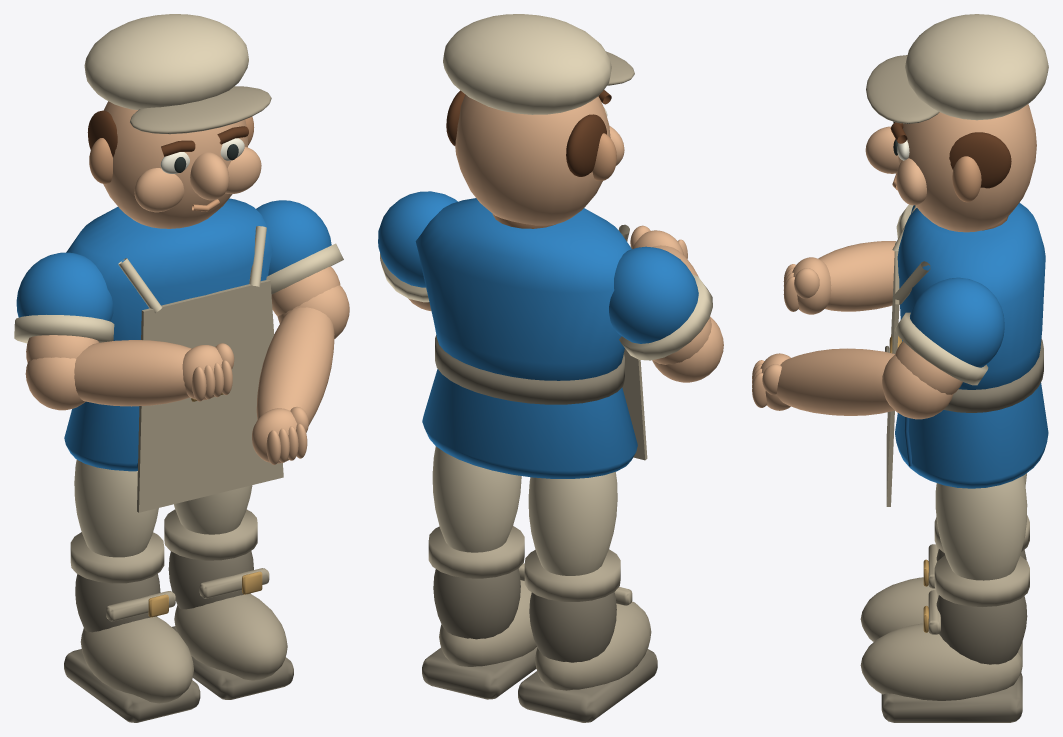
File: steenhouwer_slaan.glb
The picture shows the model from 3 angles, left to right: view 1: azimuth 30°, elevation 25°; view 2: azimuth 150°, elevation 25°; view 3: azimuth 270°, elevation 25°; orthographic projection. The views are drawn at different scales.
Visible parts, largest first — view 1: Felt_work_apron, Tunic_torso.001, Work_cap, Boot_toe.002, Boot_toe.003, Head.001, Right_Forearm.001, Left_Forearm.001, Trouser_leg.002, Right_Sleeve.001, Tunic_skirt.001, Cap_small_brim (+25 smaller); view 2: Tunic_torso.001, Tunic_skirt.001, Work_cap, Head.001, Trouser_leg.002, Trouser_leg.003, Right_Sleeve.001, Boot_shaft.003, Boot_shaft.002, Belt.001, Boot_toe.002, Boot_sole.002 (+15 smaller); view 3: Tunic_torso.001, Work_cap, Tunic_skirt.001, Head.001, Boot_toe.003, Trouser_leg.003, Left_Forearm.001, Left_Sleeve.001, Boot_shaft.003, Right_Forearm.001, Boot_sole.003, Boot_cuff.003 (+16 smaller).
Part boxes in pixels (box(x1,y1,x2,y2)): Felt_work_apron: box(137, 279, 283, 512); Tunic_torso.001: box(66, 198, 273, 340); Work_cap: box(84, 14, 248, 109); Boot_toe.002: box(80, 616, 193, 703); Boot_toe.003: box(174, 594, 287, 680); Head.001: box(103, 101, 248, 228); Right_Forearm.001: box(74, 340, 191, 406); Left_Forearm.001: box(256, 307, 334, 425); Trouser_leg.002: box(74, 459, 158, 557); Right_Sleeve.001: box(16, 252, 113, 321); Tunic_skirt.001: box(64, 401, 139, 471); Cap_small_brim: box(130, 86, 271, 134); Tunic_torso.001: box(415, 198, 631, 380); Tunic_skirt.001: box(422, 369, 637, 478); Work_cap: box(443, 14, 611, 114); Head.001: box(455, 94, 610, 225); Trouser_leg.002: box(528, 472, 617, 575); Trouser_leg.003: box(432, 446, 521, 552); Right_Sleeve.001: box(609, 246, 698, 343); Boot_shaft.003: box(433, 568, 520, 639); Boot_shaft.002: box(529, 592, 616, 662); Belt.001: box(435, 335, 624, 404); Boot_toe.002: box(535, 601, 651, 690); Boot_sole.002: box(518, 649, 657, 722); Tunic_torso.001: box(897, 202, 1045, 389); Work_cap: box(905, 14, 1048, 120); Tunic_skirt.001: box(895, 383, 1048, 488); Head.001: box(898, 104, 1036, 232); Boot_toe.003: box(860, 623, 1022, 700); Trouser_leg.003: box(935, 476, 1027, 580); Left_Forearm.001: box(776, 348, 894, 415); Left_Sleeve.001: box(910, 277, 1004, 367); Boot_shaft.003: box(936, 595, 1027, 664); Right_Forearm.001: box(818, 241, 896, 311); Boot_sole.003: box(881, 673, 1022, 722); Boot_cuff.003: box(934, 555, 1029, 606).
Bounding box in the file's own units: 1.05 × 2.06 × 0.842.
